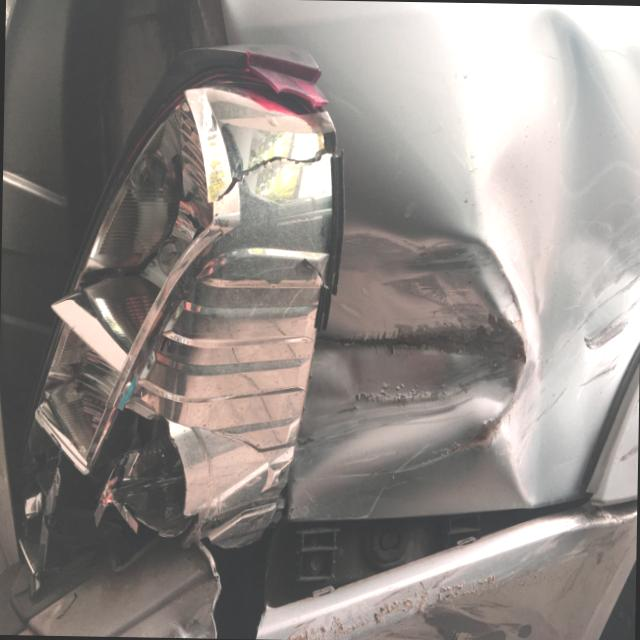Cabossage: (323, 209, 518, 448)
Dechirure: (178, 490, 637, 640)
Phare abime: (17, 46, 342, 603)
Rayure: (274, 532, 636, 640)
